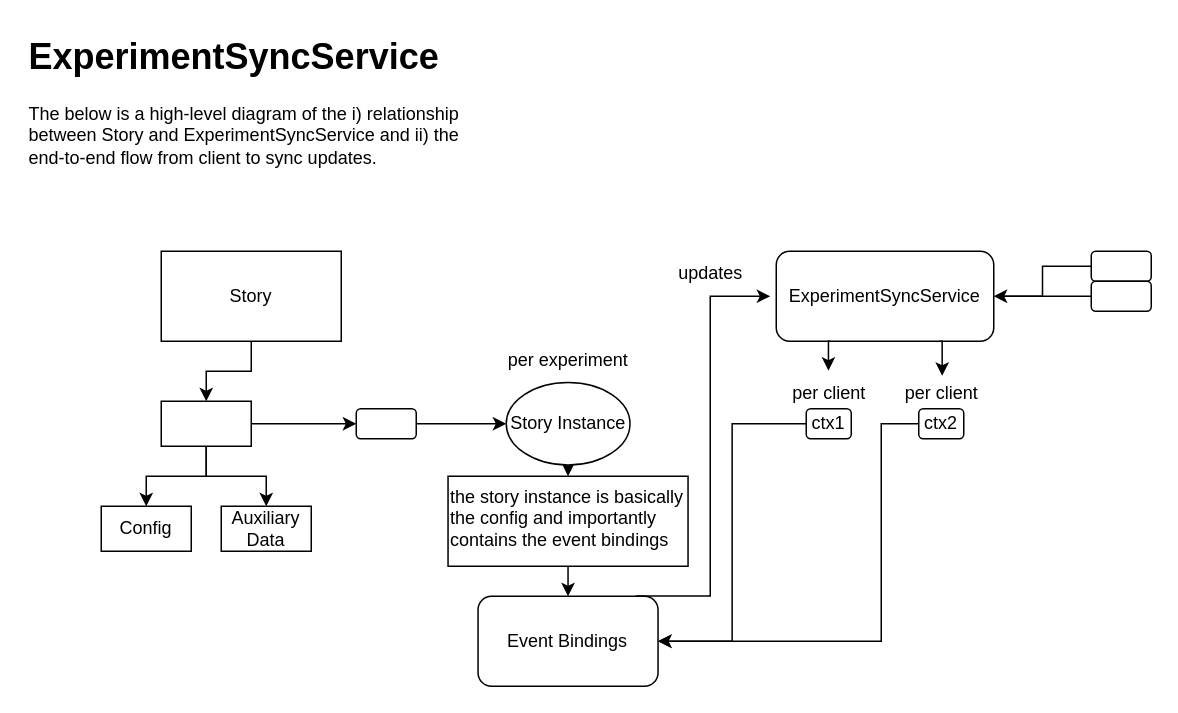
This 1178x713 diagram has some shape labels left out. The centre of each missing label's shape, as x and y in pixels:
"Build" goes at point 385,423.
"Builder" goes at point 205,423.
"Client1" goes at point 1120,265.
"Client2" goes at point 1120,295.
